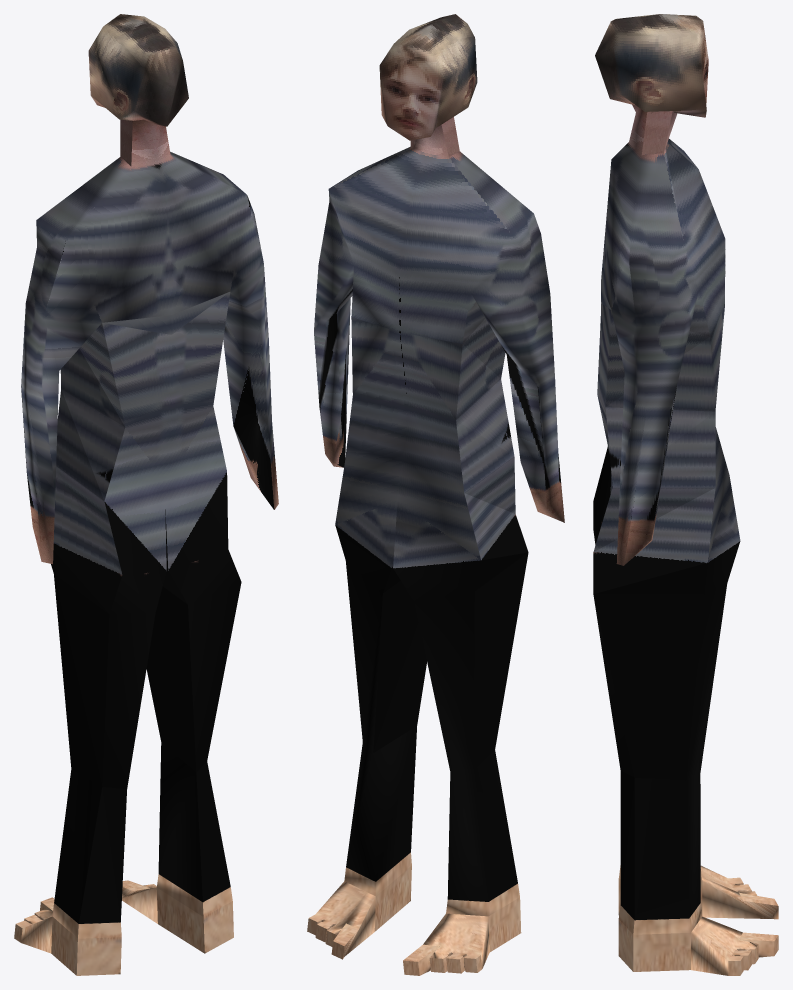
The model's file is Masela.glb.
The picture shows the model from 3 angles, left to right: view 1: azimuth 30°, elevation 25°; view 2: azimuth 150°, elevation 25°; view 3: azimuth 270°, elevation 25°; orthographic projection. The views are drawn at different scales.
Parts seen in each view (by area): view 1: Cube, Roundcube; view 2: Cube, Roundcube; view 3: Cube, Roundcube.
Boxes of the visible parts, x1,y1,x2,y2 form: Cube: [14, 119, 278, 975]; Roundcube: [88, 14, 188, 126]; Cube: [307, 117, 564, 975]; Roundcube: [379, 14, 477, 140]; Cube: [593, 104, 778, 975]; Roundcube: [595, 14, 708, 117].
Bounding box in the file's own units: 0.6094 × 2.24 × 0.4078.
3 materials, 3 textured.
